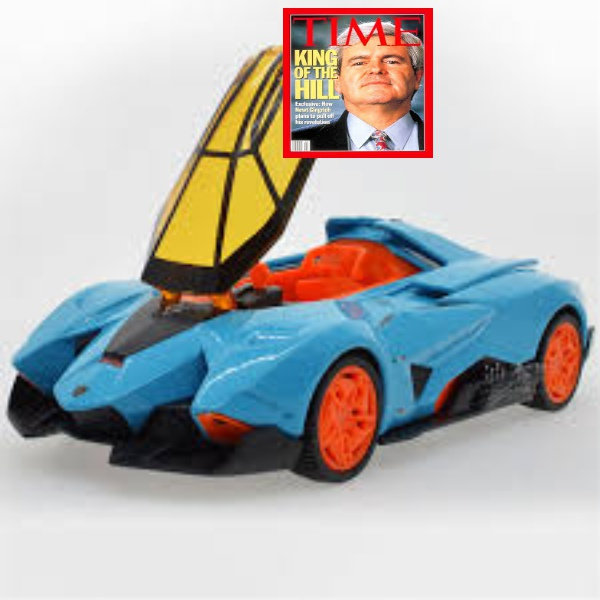time_cover: (277, 2, 437, 161)
